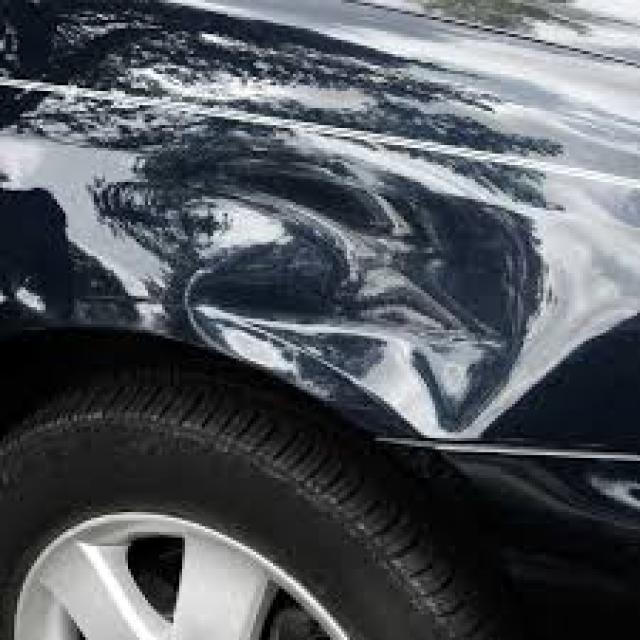minor: (126, 163, 544, 417)
